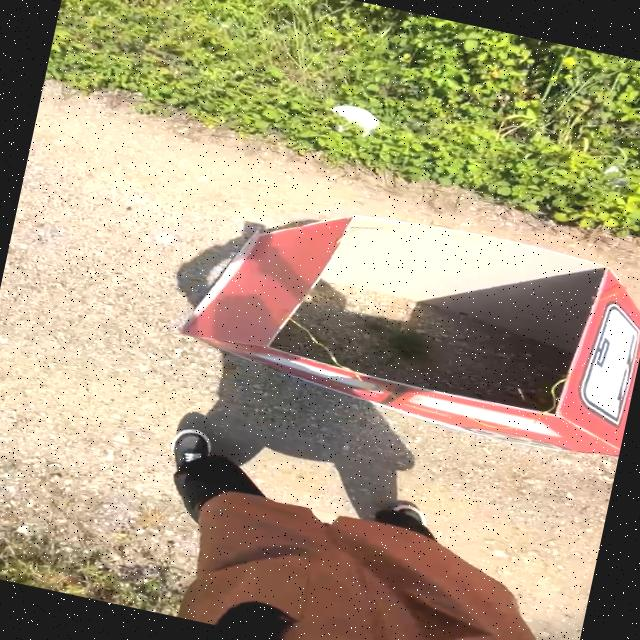red_car: (81, 131, 640, 499)
